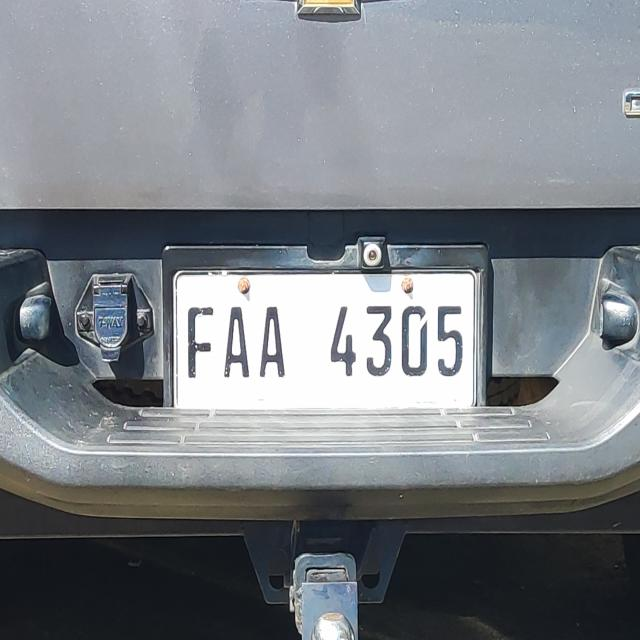plate: (168, 261, 486, 420)
